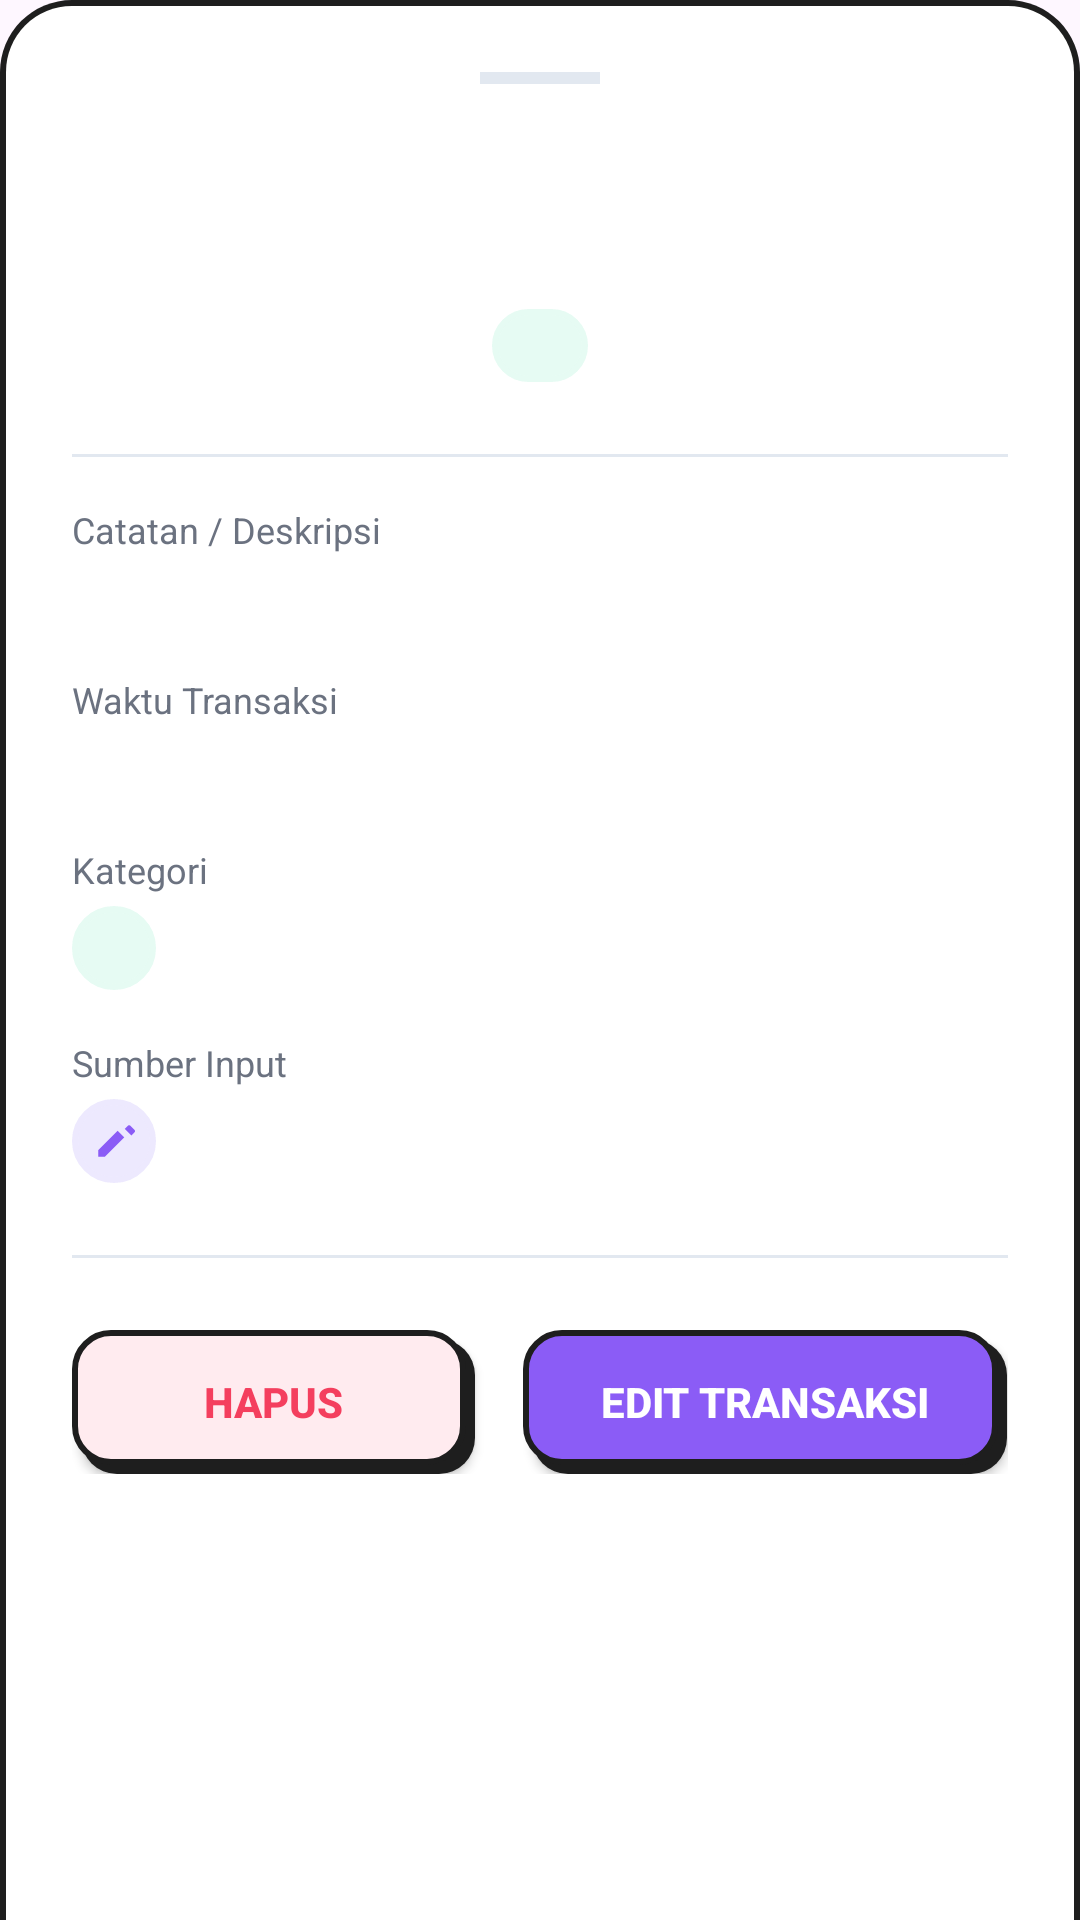

Icons on this 1080w x 1920h Android screen, each with its box as (x1, y1, x2, y2):
edit: (98, 1125, 135, 1157)
